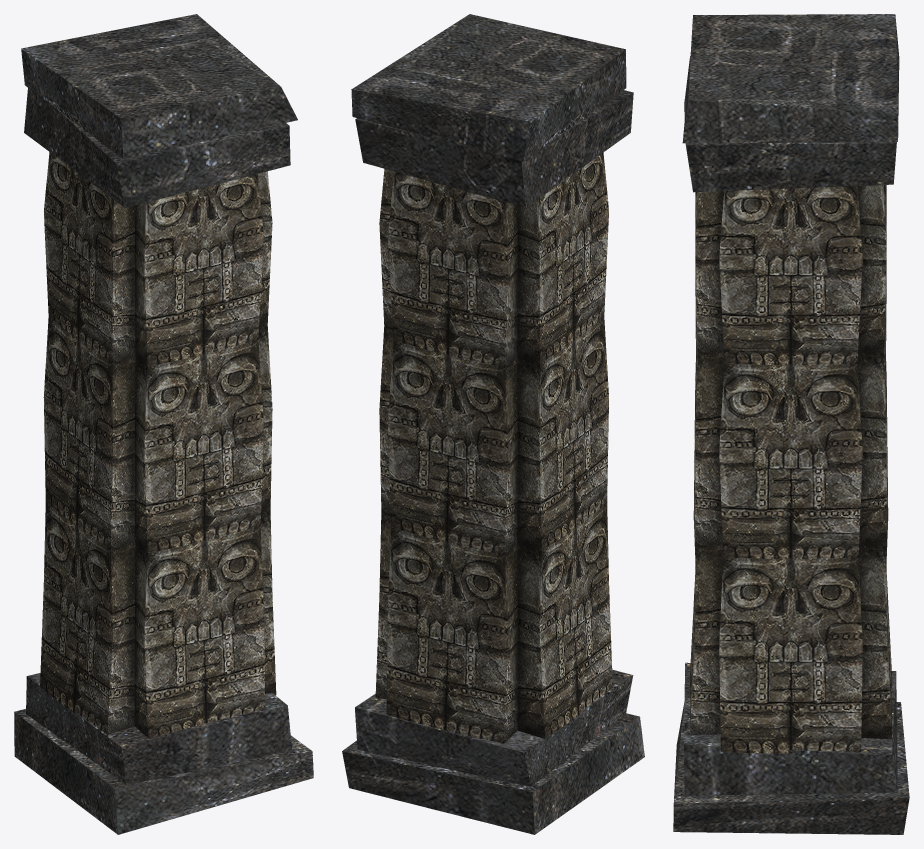
File: Deco1A_LOD1_long.fbx
The picture shows the model from 3 angles, left to right: view 1: azimuth 30°, elevation 25°; view 2: azimuth 150°, elevation 25°; view 3: azimuth 270°, elevation 25°; orthographic projection. The views are drawn at different scales.
Parts seen in each view (by area): view 1: polySurface5093_long; view 2: polySurface5093_long; view 3: polySurface5093_long.
Boxes of the visible parts, x1,y1,x2,y2 form: polySurface5093_long: (14, 14, 313, 834); polySurface5093_long: (342, 14, 644, 834); polySurface5093_long: (673, 14, 909, 834).
Bounding box in the file's own units: 1.57 × 5.46 × 1.59.
